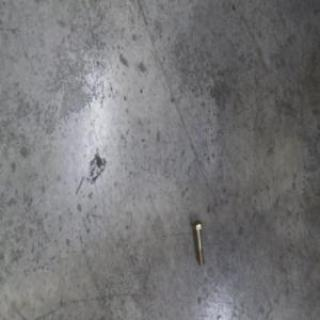Bolttrack_idkeyframe: (188, 218, 202, 266)
